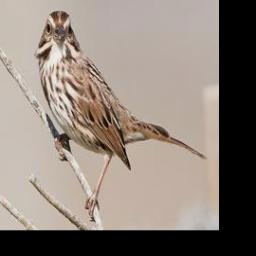Sparrow: (32, 8, 210, 223)
